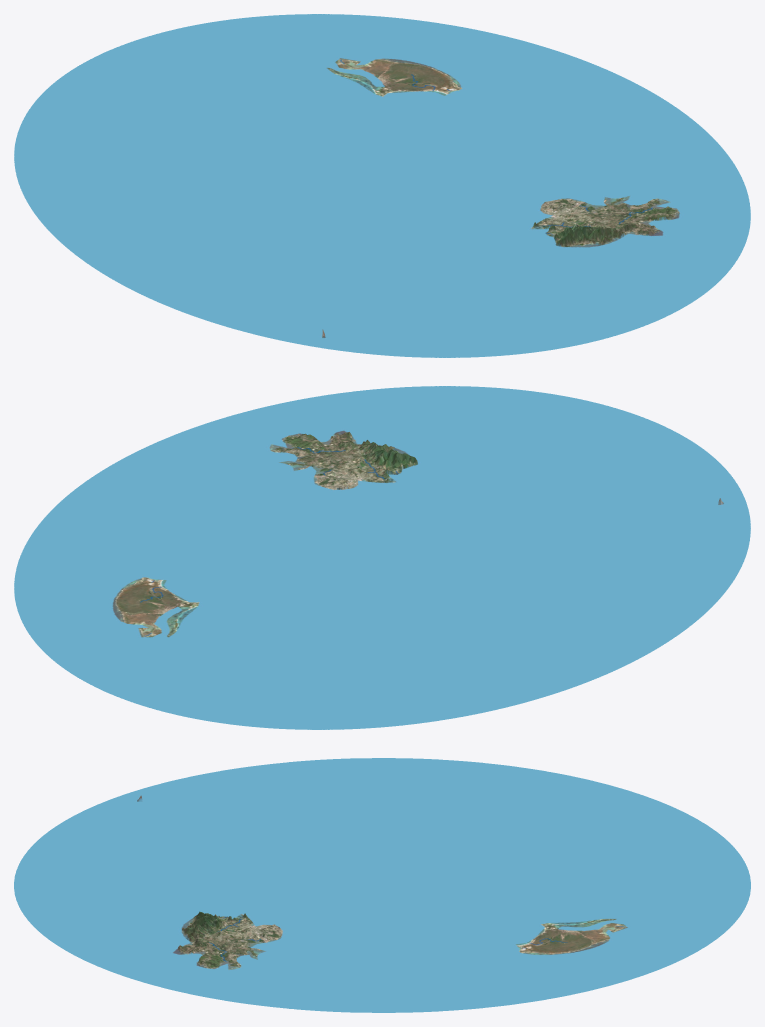
Rendered from ATG-previa-terrain.glb.
The picture shows the model from 3 angles, top to bottom: view 1: azimuth 30°, elevation 25°; view 2: azimuth 150°, elevation 25°; view 3: azimuth 270°, elevation 25°; orthographic projection. The views are drawn at different scales.
Visible parts, largest first — view 1: Antígua e Barbuda; view 2: Antígua e Barbuda; view 3: Antígua e Barbuda.
Boxes of the visible parts, x1,y1,x2,y2 form: Antígua e Barbuda: [14, 14, 750, 357]; Antígua e Barbuda: [14, 386, 750, 729]; Antígua e Barbuda: [14, 758, 750, 1012].
Size of the model in its own units: 2.16 by 0.0359 by 2.64.
Materials: 1 (1 with a texture image).
